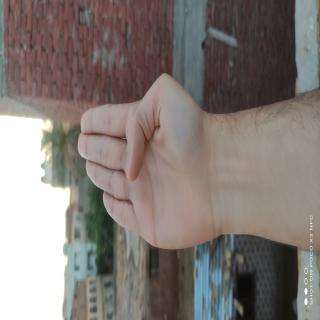KAAF: (27, 158, 116, 320)
